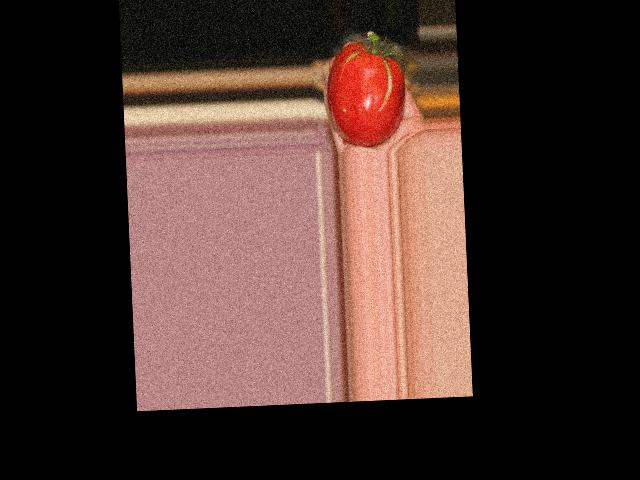tomato: (324, 40, 406, 148)
